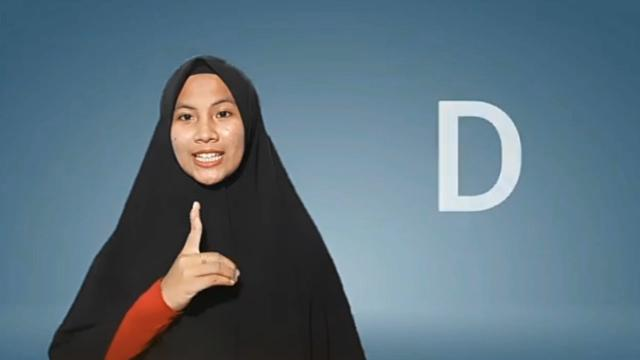D: (164, 201, 242, 301)
